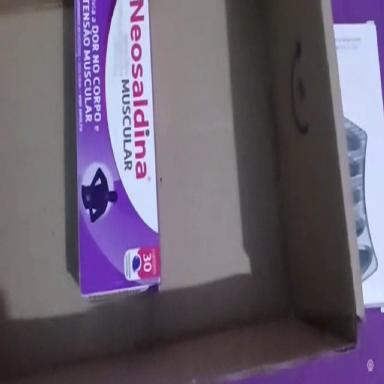Medicamento: (75, 0, 160, 297)
